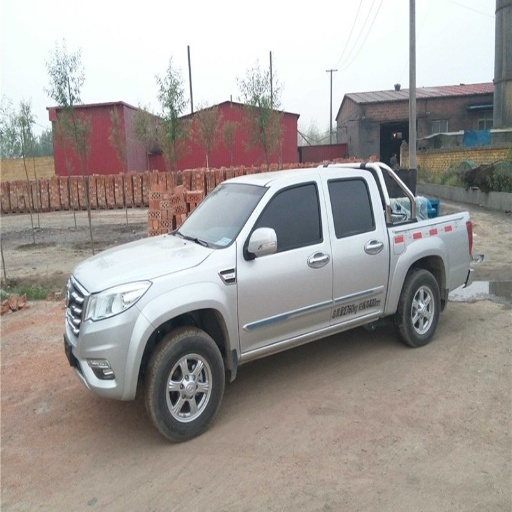back_left_door: (325, 171, 385, 315)
front_bumper: (64, 286, 150, 396)
front_glass: (178, 183, 264, 246)
front_left_door: (241, 181, 334, 352)
trunk: (387, 216, 470, 307)
